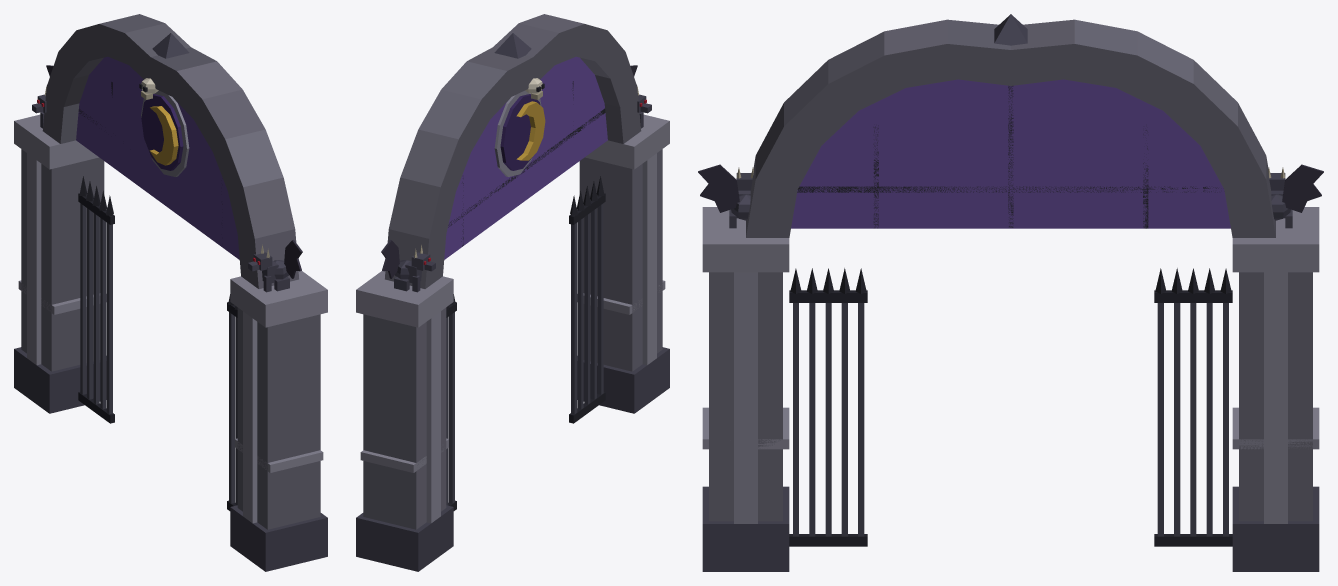
File: Decor_VampireCrypt_Gate.fbx
3 renders of one model, left to right at view 1: azimuth 30°, elevation 25°; view 2: azimuth 150°, elevation 25°; view 3: azimuth 270°, elevation 25°, orthographic. The views are drawn at different scales.
Visible parts, largest first — view 1: Gate_Body; view 2: Gate_Body; view 3: Gate_Body.
Boxes of the visible parts, <box> form: Gate_Body: <box>14,14,327,571</box>; Gate_Body: <box>356,14,669,571</box>; Gate_Body: <box>698,14,1323,571</box>.
Bounding box in the file's own units: 4 × 27 × 28.4.
